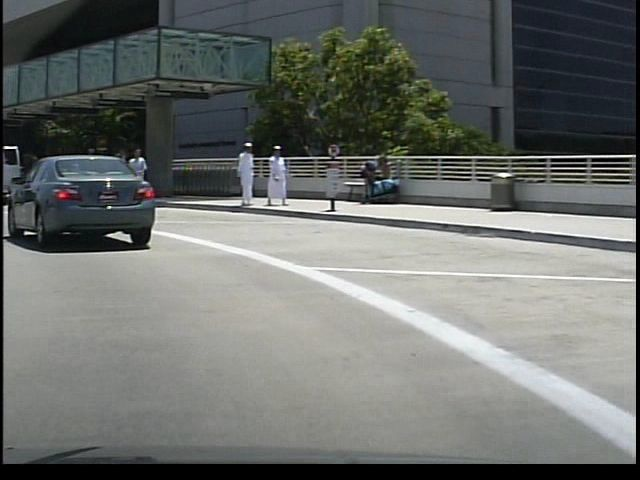person: (119, 141, 150, 219), (227, 138, 258, 215), (260, 142, 287, 207)
